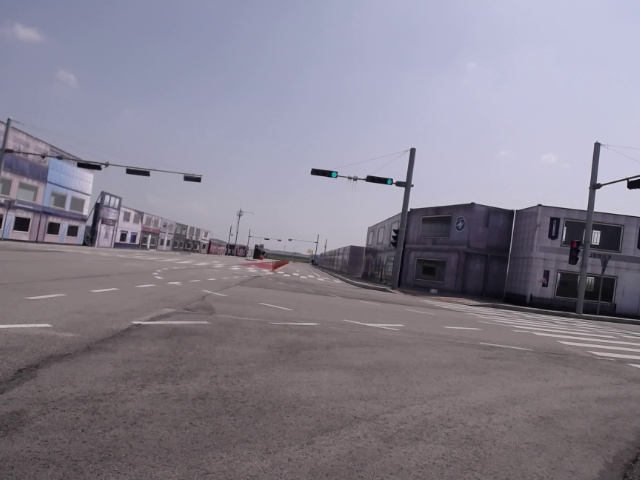straight_green_4: (310, 169, 338, 179), (367, 174, 392, 185)
